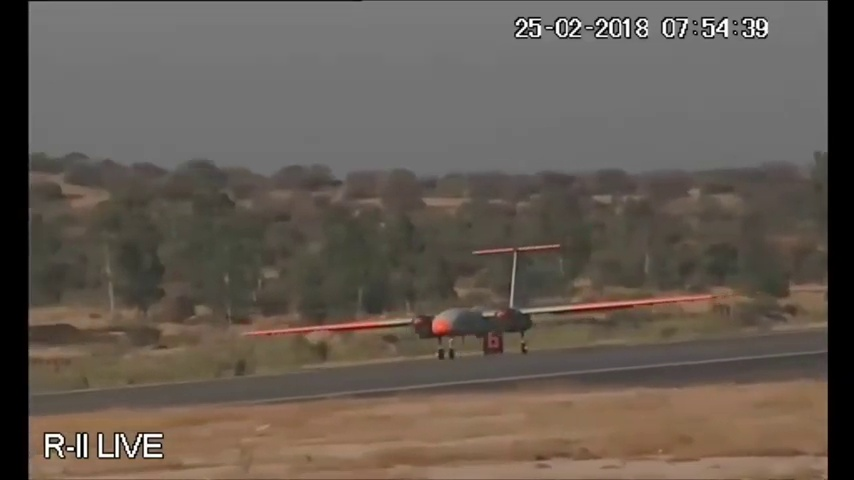military drone: (241, 244, 719, 360)
